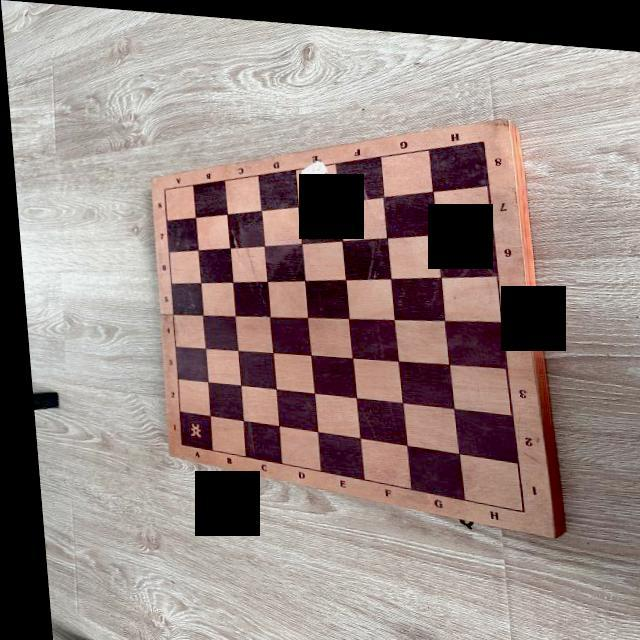chess-table-corners: (510, 499, 520, 508), (476, 129, 486, 138), (157, 184, 165, 190), (170, 440, 176, 445)
